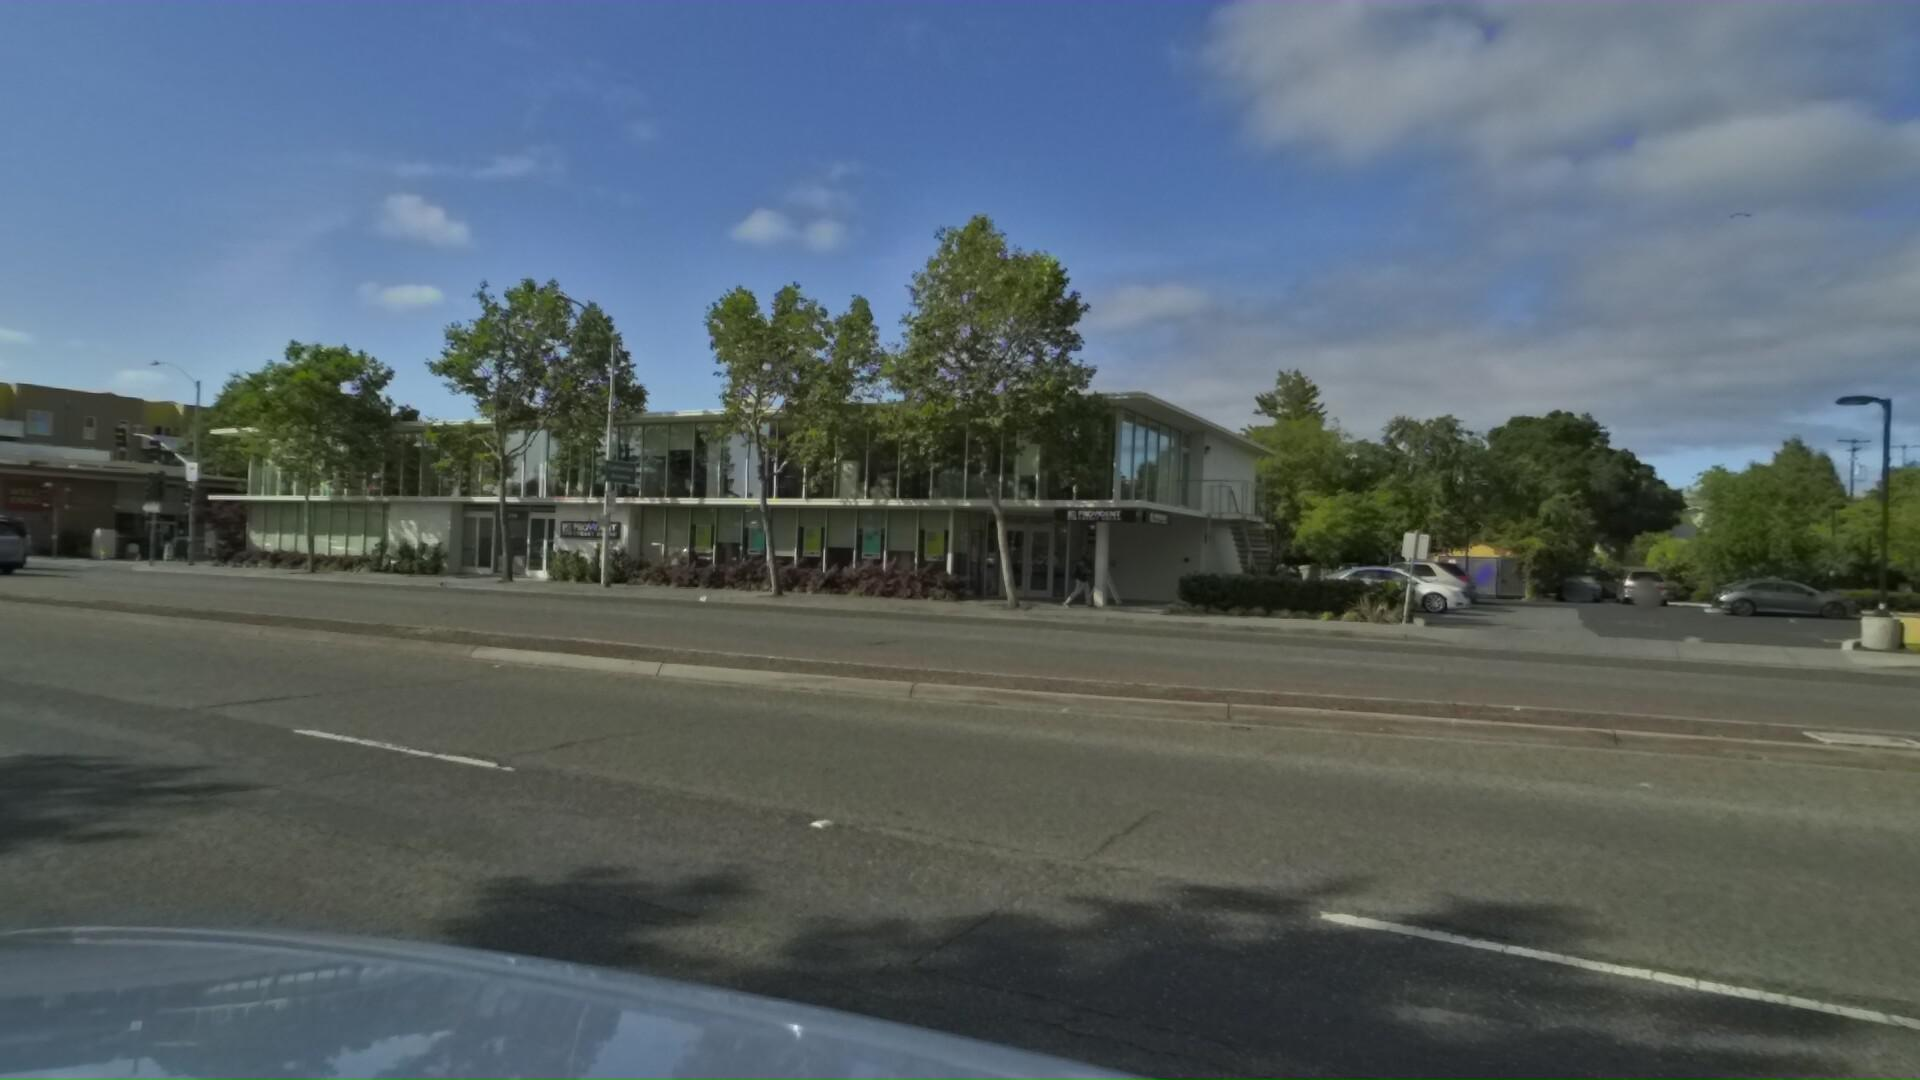car: (0, 516, 44, 582), (0, 518, 37, 585)
